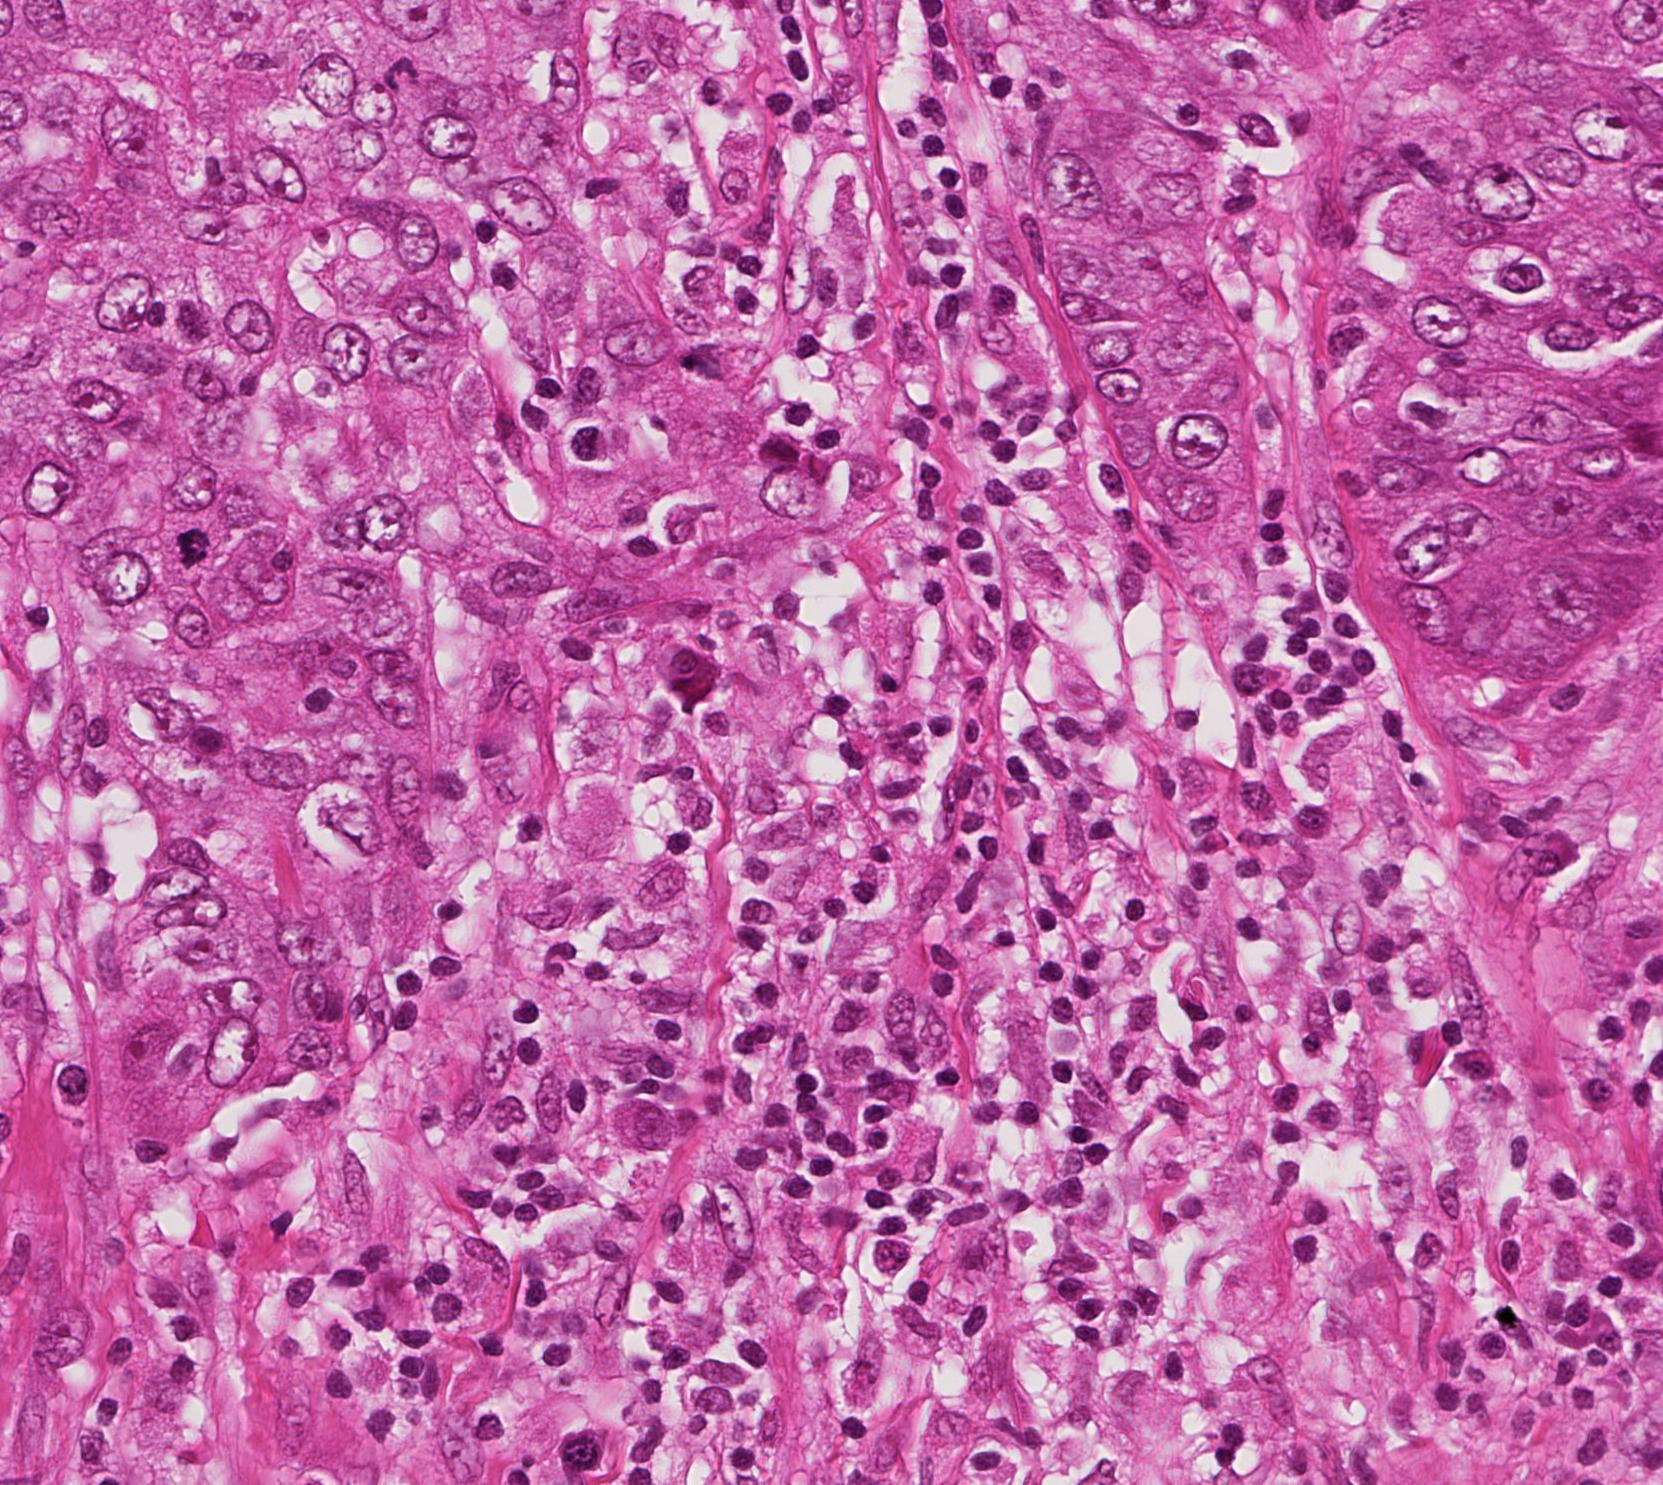mitosis: (156, 519, 216, 579), (364, 29, 424, 87)
